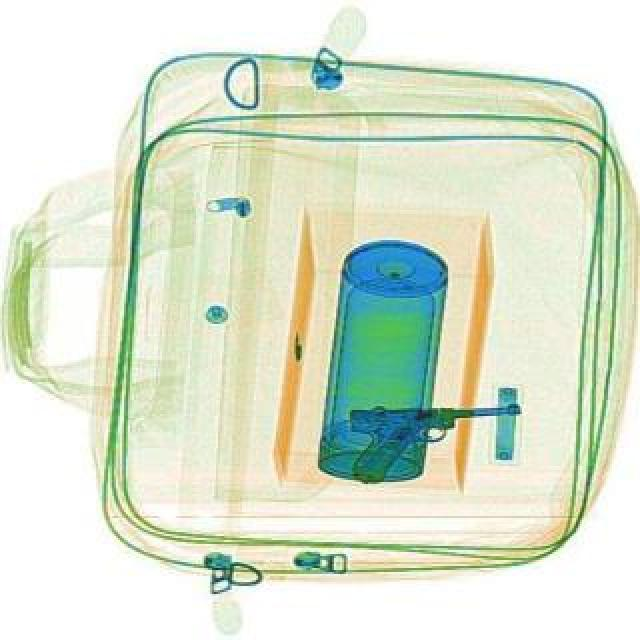gun: (342, 404, 518, 484)
